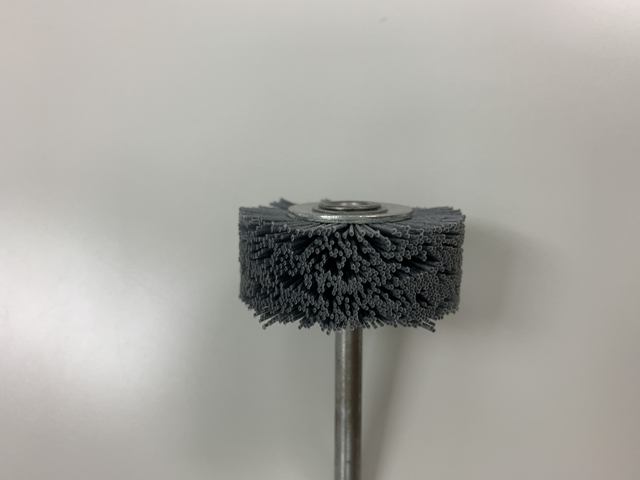Wheel Brush: (232, 182, 487, 459), (227, 173, 467, 440)
